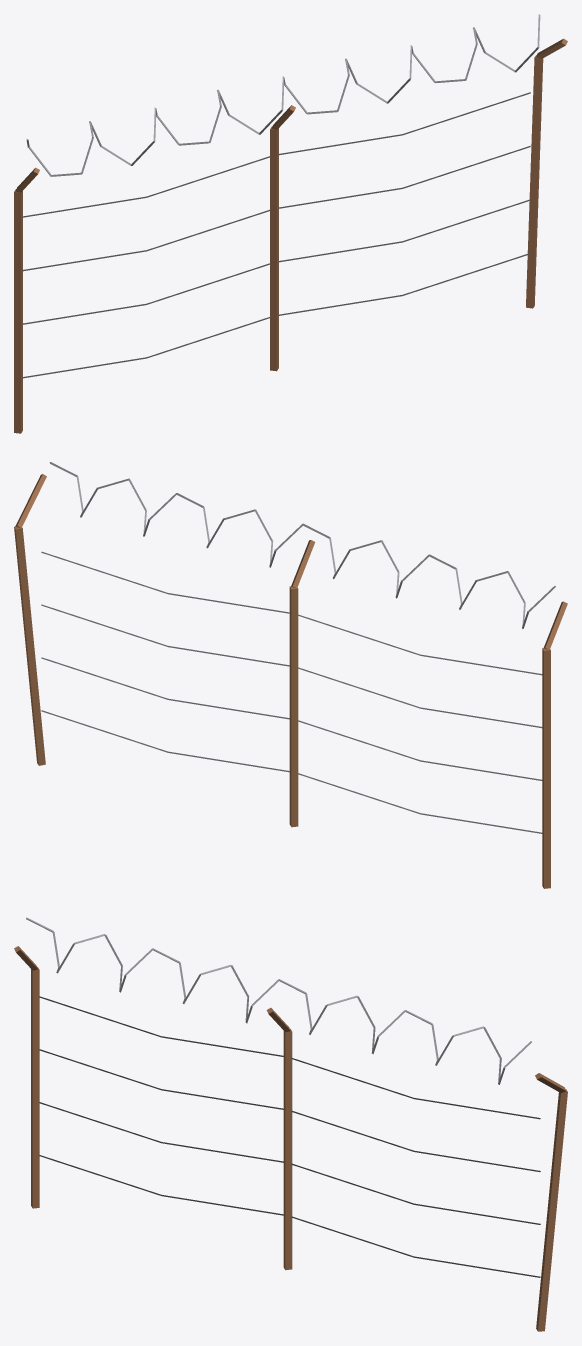
The model's file is v_barbed_fence.glb.
The picture shows the model from 3 angles, top to bottom: view 1: azimuth 30°, elevation 25°; view 2: azimuth 150°, elevation 25°; view 3: azimuth 330°, elevation 25°; orthographic projection.
Parts seen in each view (by area): view 1: Barbed_fence; view 2: Barbed_fence; view 3: Barbed_fence.
Boxes of the visible parts, <box> form: Barbed_fence: <box>14,14,567,433</box>; Barbed_fence: <box>14,462,567,888</box>; Barbed_fence: <box>14,917,567,1331</box>.
Size of what is drawn, in the model's own units: 4.19 by 2.24 by 0.4365.
